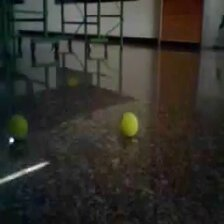tennis: (7, 114, 29, 143), (120, 112, 139, 138)
